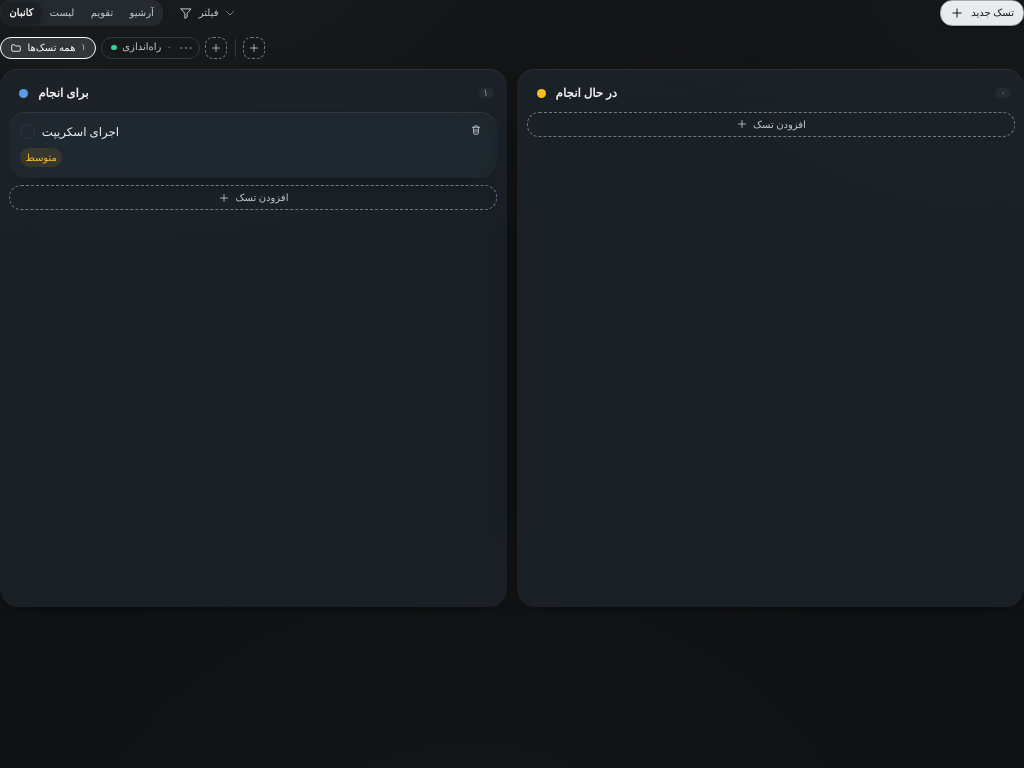
Test: a card carries its own delete, and a column carries none (2026-09-15) › asks first in the platform's dialog — a no deletes nothing, a yes deletes and re-reads the board
The image size is (1024, 768).
Expected: the text "اجرای اسکریپت" is shown, [42,124,119,138]
Click the button named "حذف تسک" at (476, 130), box [465,119,487,141]
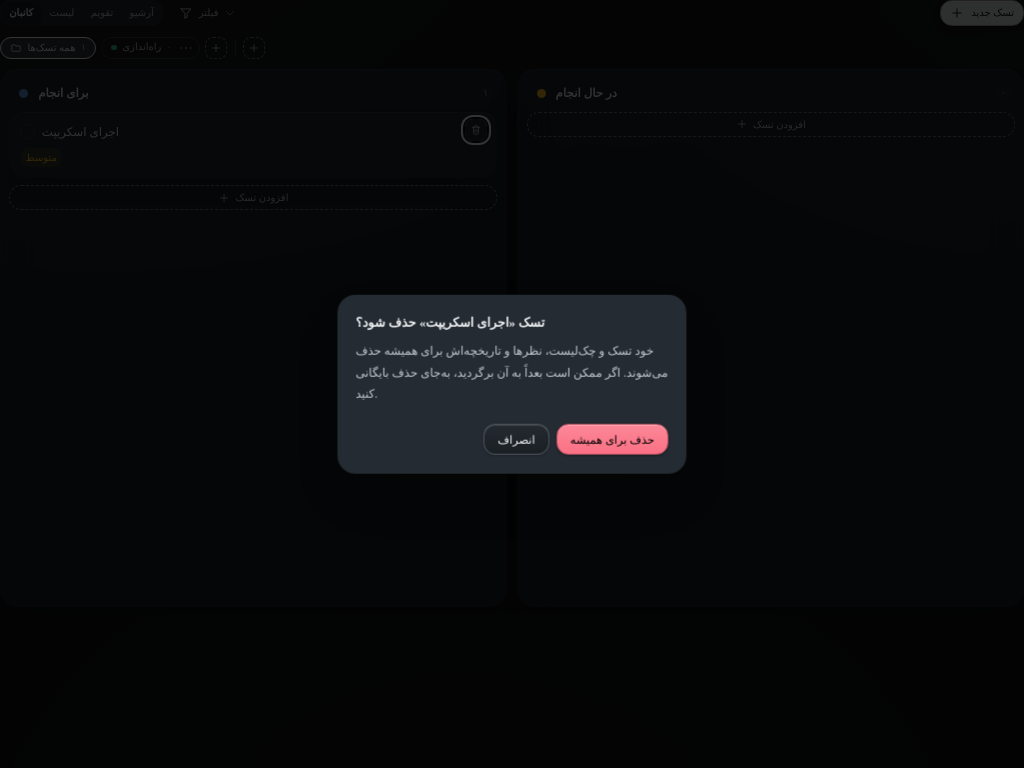
Click the button "انصراف" at (516, 440), box [484,424,549,455]
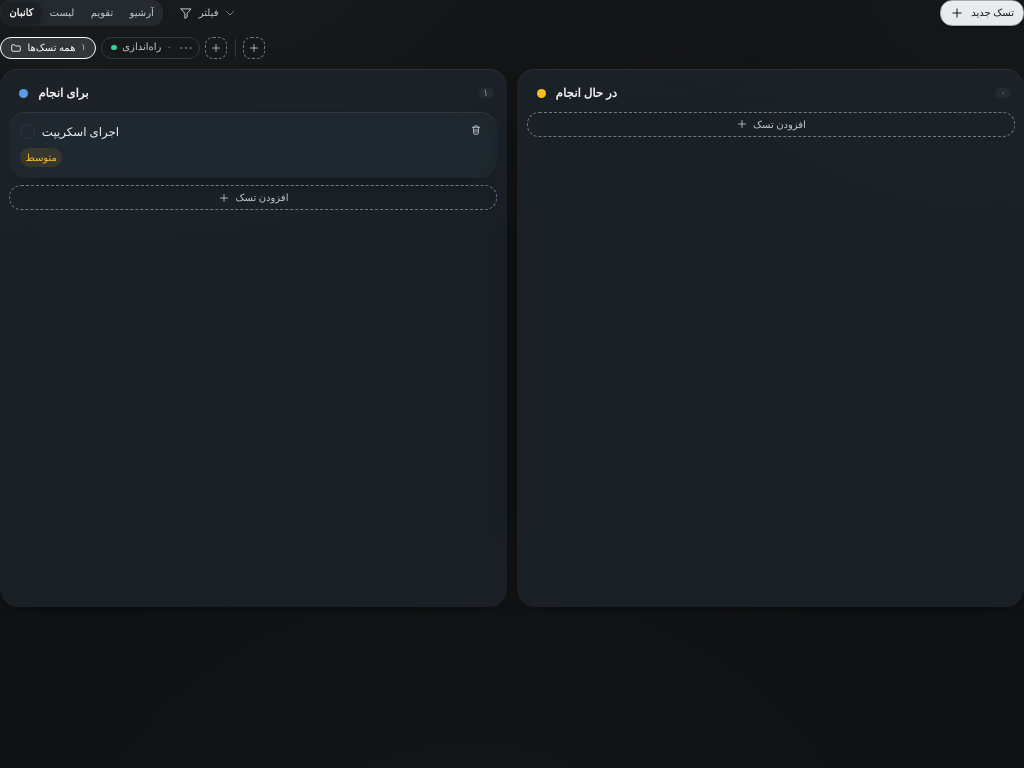
Expected: the text "اجرای اسکریپت" is shown, [42,124,119,138]
Result: the heading "تسک «اجرای اسکریپت» حذف شود؟" is gone
Click the button named "حذف تسک" at (476, 130), box [465,119,487,141]
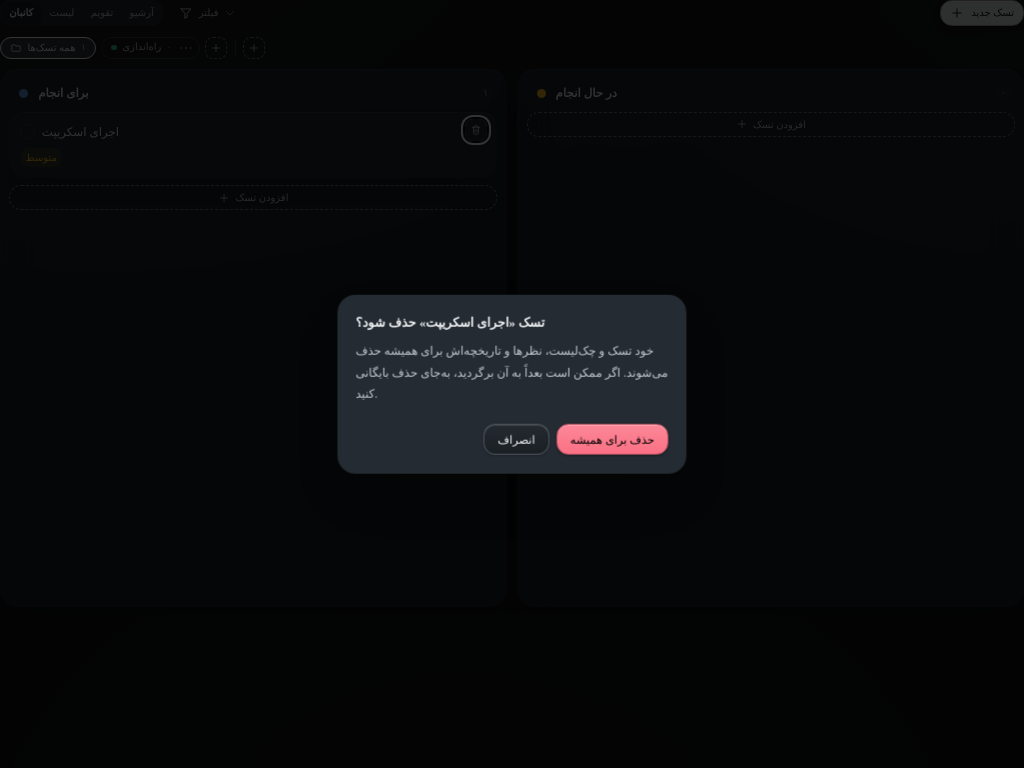
Click the button "حذف برای همیشه" at (612, 440), box [556,424,668,455]
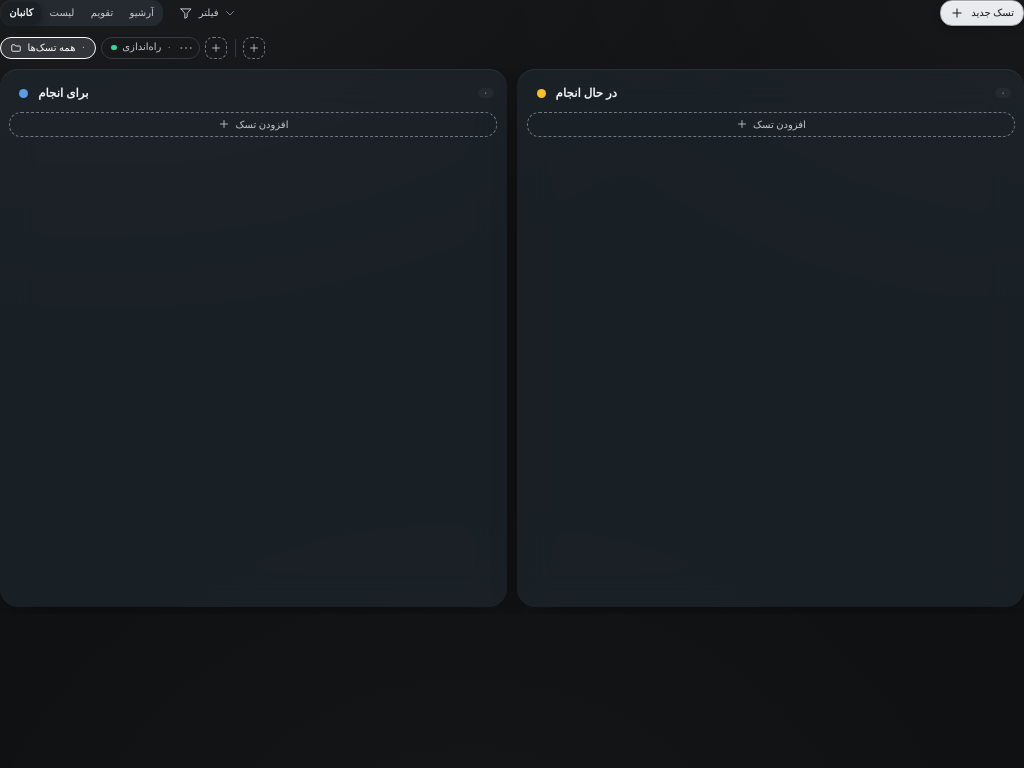
Result: the button "اجرای اسکریپت" is gone
